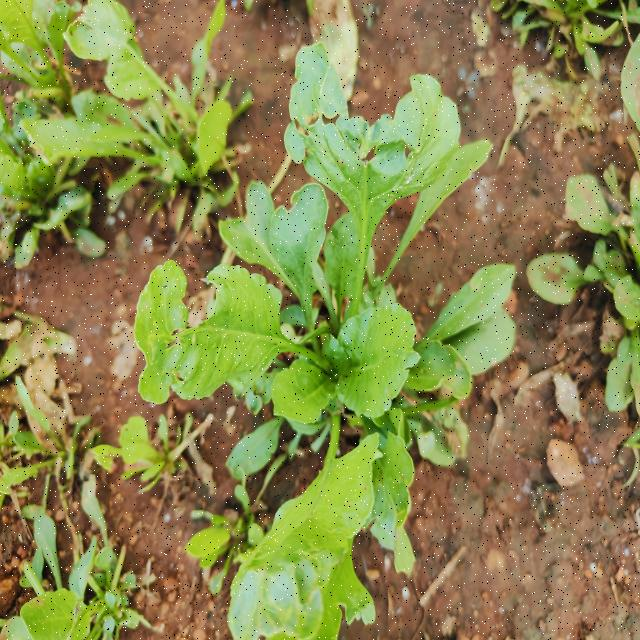leaves: (275, 34, 467, 341), (226, 387, 421, 640), (100, 237, 347, 405), (368, 110, 501, 321), (342, 397, 452, 618), (224, 163, 332, 346), (335, 300, 432, 435), (261, 353, 346, 441)
